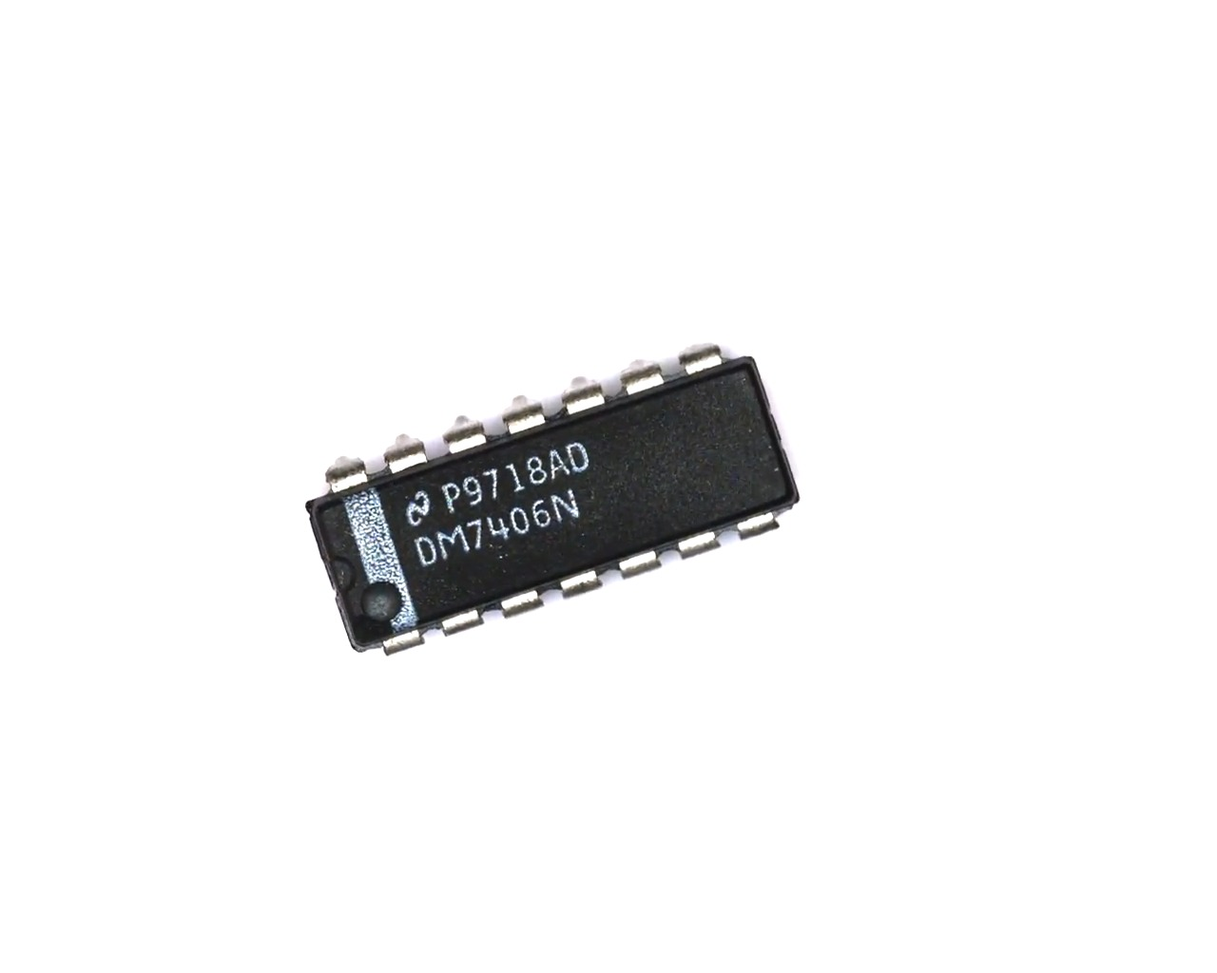IC: (279, 306, 822, 687)
notch: (322, 554, 363, 599)
